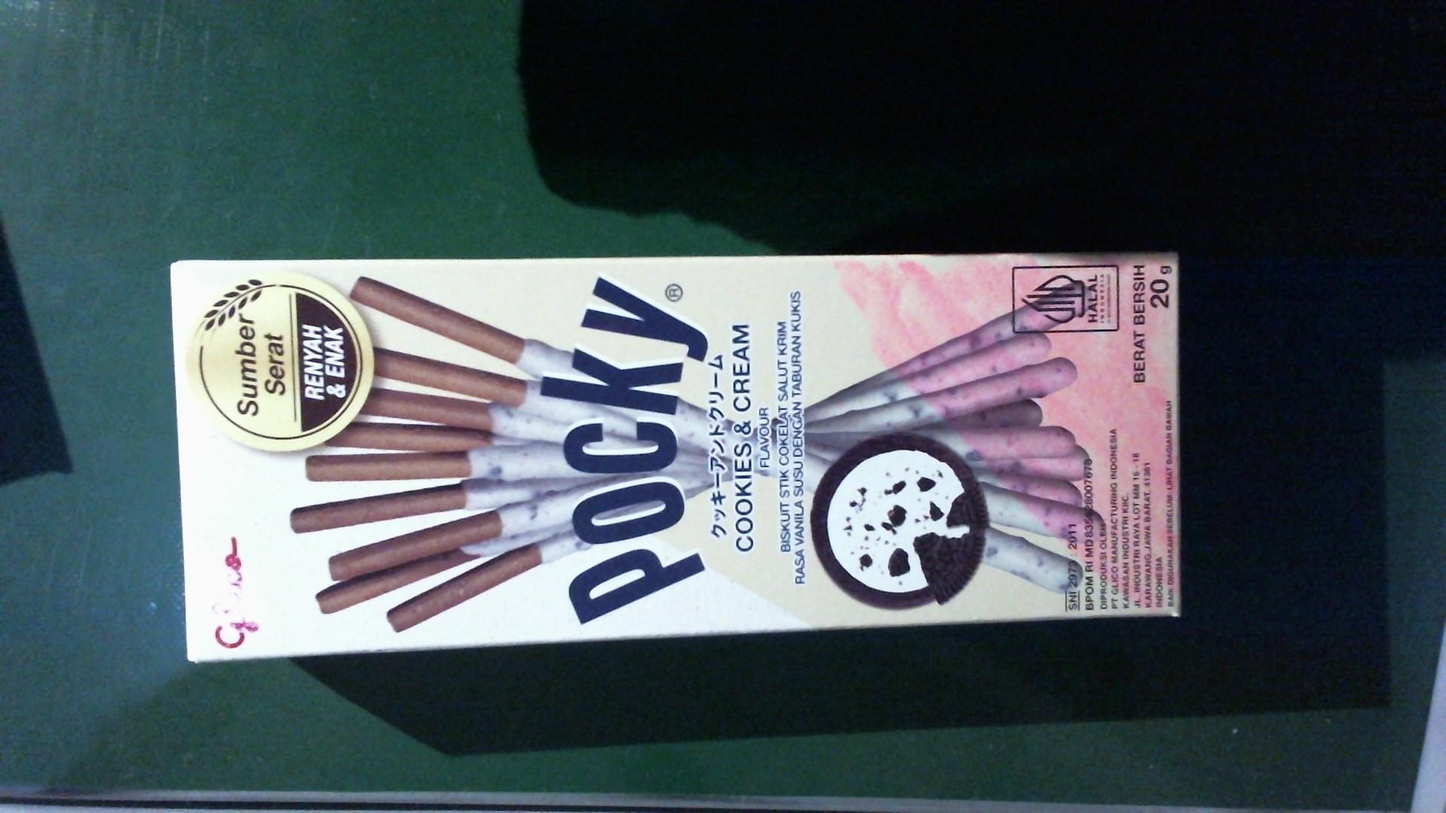Kertas: (169, 260, 1182, 659)
